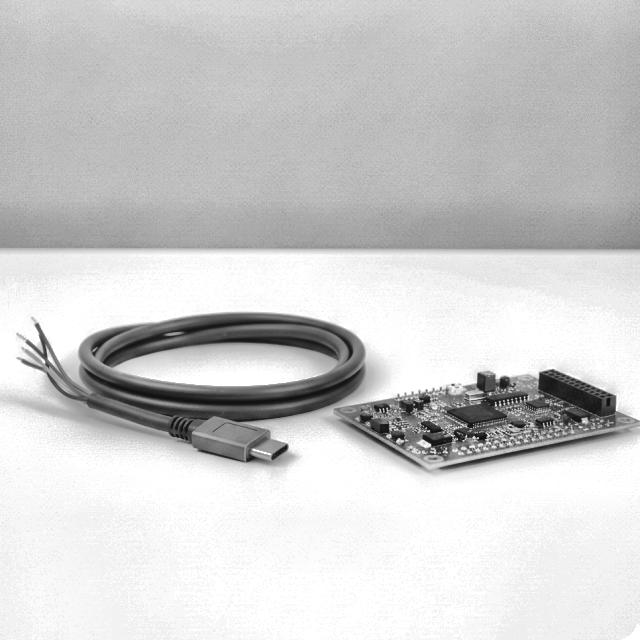Cable: (16, 291, 367, 465)
PCB: (332, 365, 640, 471)
